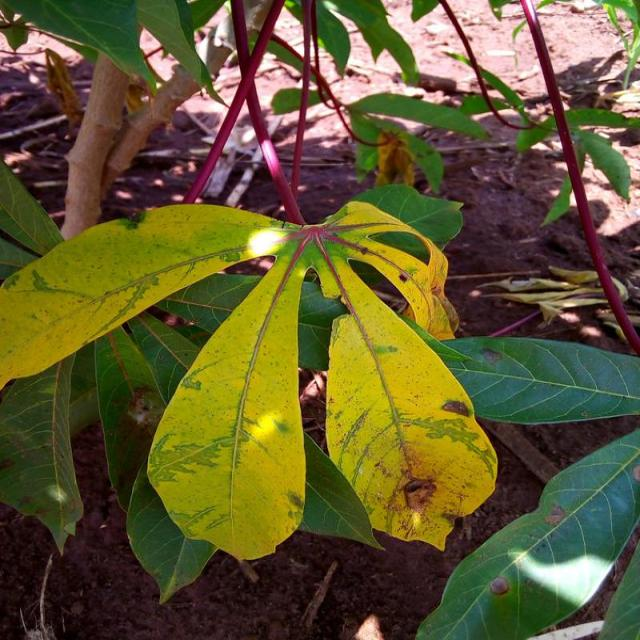cassava leaf: (1, 191, 491, 571), (320, 243, 498, 552), (145, 243, 308, 561), (414, 425, 638, 638)
